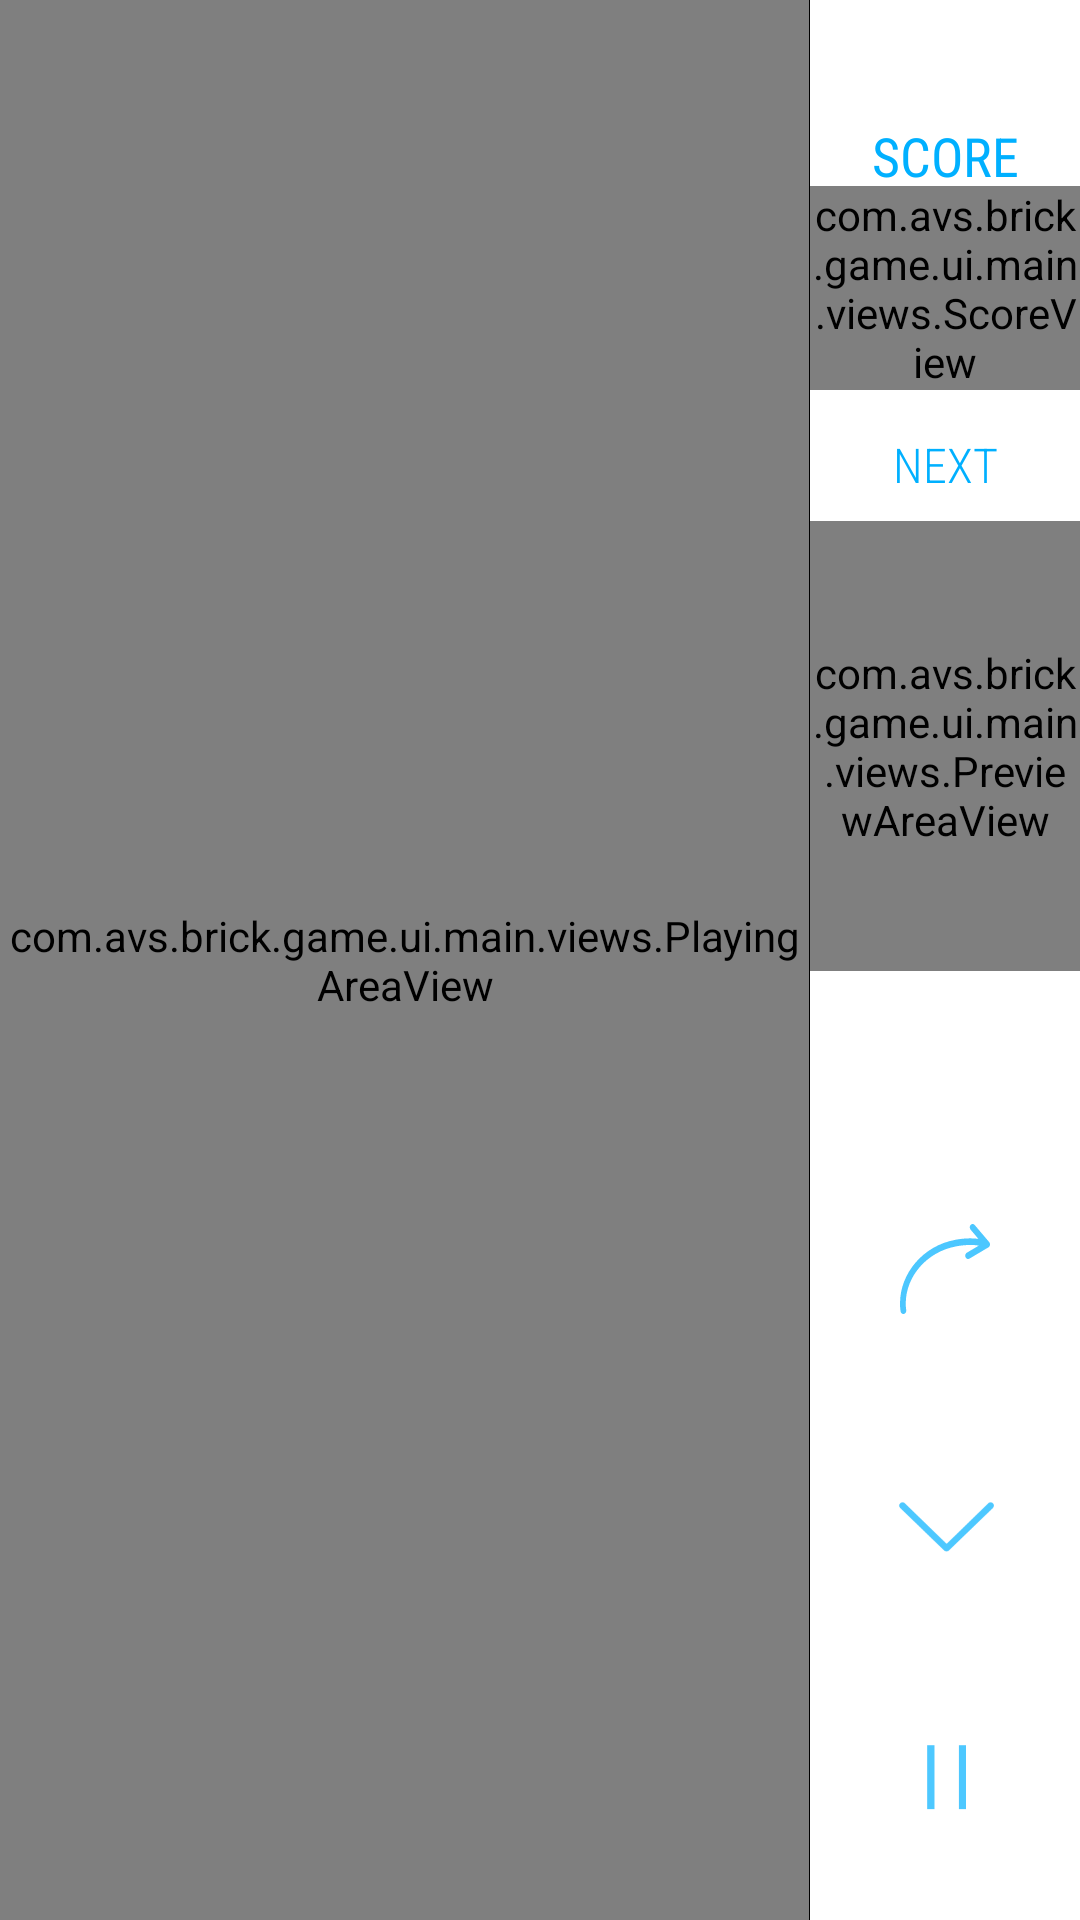

Icons on this 1080w x 1920h Android screen, each with its box as [x1, y1, x2, y2]:
Move down: [899, 1502, 994, 1552]
Pause or resume game: [927, 1745, 966, 1809]
Rotate: [900, 1224, 990, 1314]
